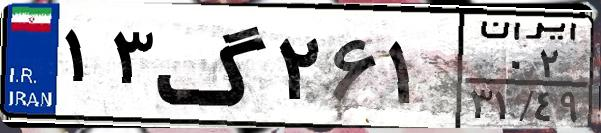0: (508, 27, 537, 80)
1: (385, 28, 445, 110), (57, 26, 110, 100), (495, 70, 520, 125)
2: (270, 28, 330, 110), (537, 27, 568, 80)
3: (110, 28, 156, 98), (470, 70, 495, 125)
4: (535, 70, 560, 125)
6: (330, 28, 385, 110)
9: (560, 70, 590, 125)
گ: (156, 12, 270, 120)
